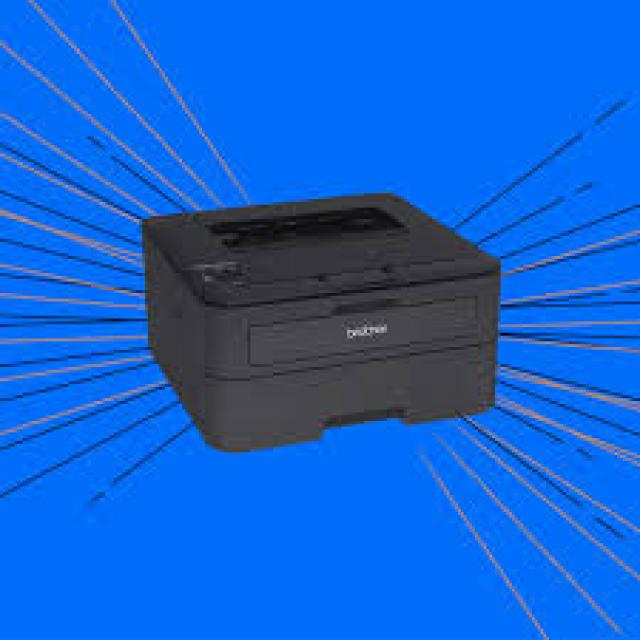printer: (138, 189, 515, 469)
